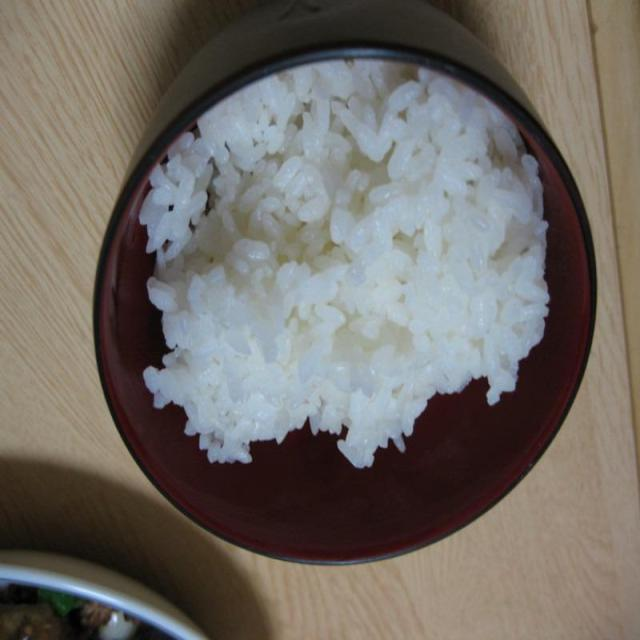nasi_putih: (135, 58, 549, 474)
